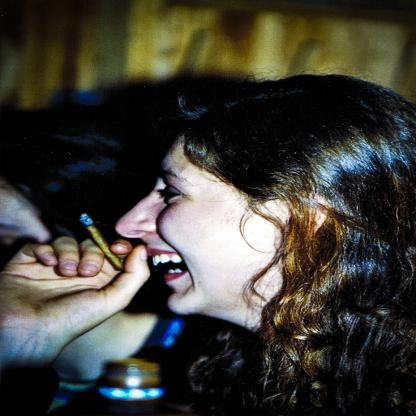smoking: (79, 214, 126, 271)
